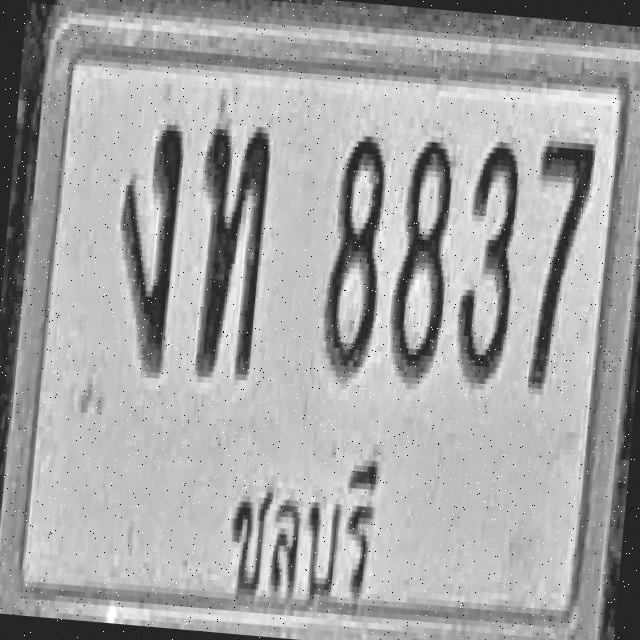16NgorNgu: (108, 115, 186, 372)
3: (453, 134, 523, 385)
32ThorThaHan: (188, 120, 272, 378)
7: (520, 134, 596, 391)
8: (386, 131, 456, 382), (319, 128, 389, 379)
Chonburi: (213, 422, 392, 622)
